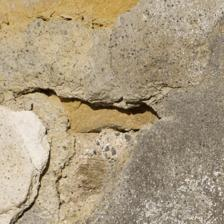Crack: (22, 83, 167, 137), (14, 131, 65, 223)
